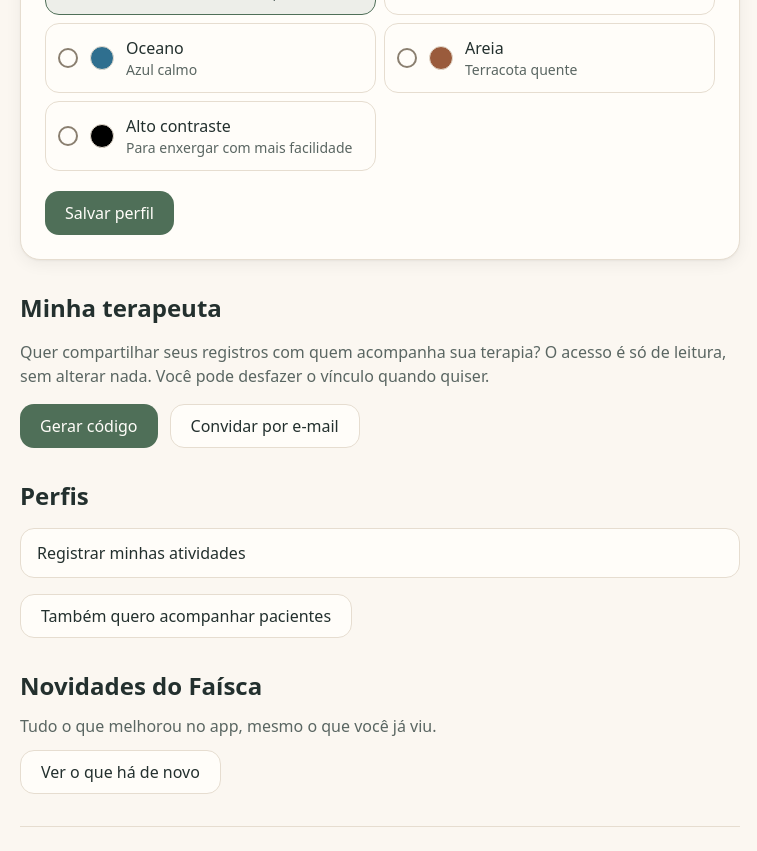
Test: /conta: minha terapeuta › gera o código e mostra com a validade, uma vez só
(page scrolled)
Click the button "Gerar código". click: (89, 426)
box: [20,404,158,448]
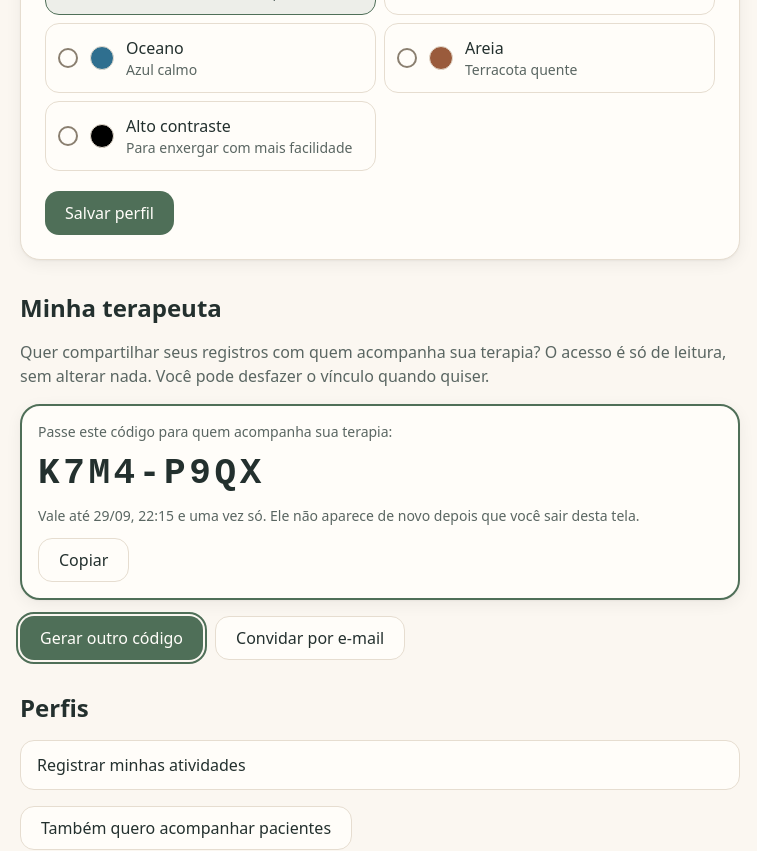
Check: the text "K7M4-P9QX" is shown, box [38,453,265,494]
Check: the text "Vale até 29/09, 22:15 e uma vez só" is shown, box [38,506,722,526]
Check: the button "Gerar outro código" is shown, box [20,616,203,660]
